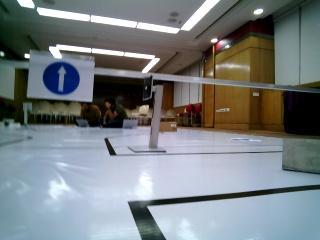straight: (27, 51, 94, 100)
